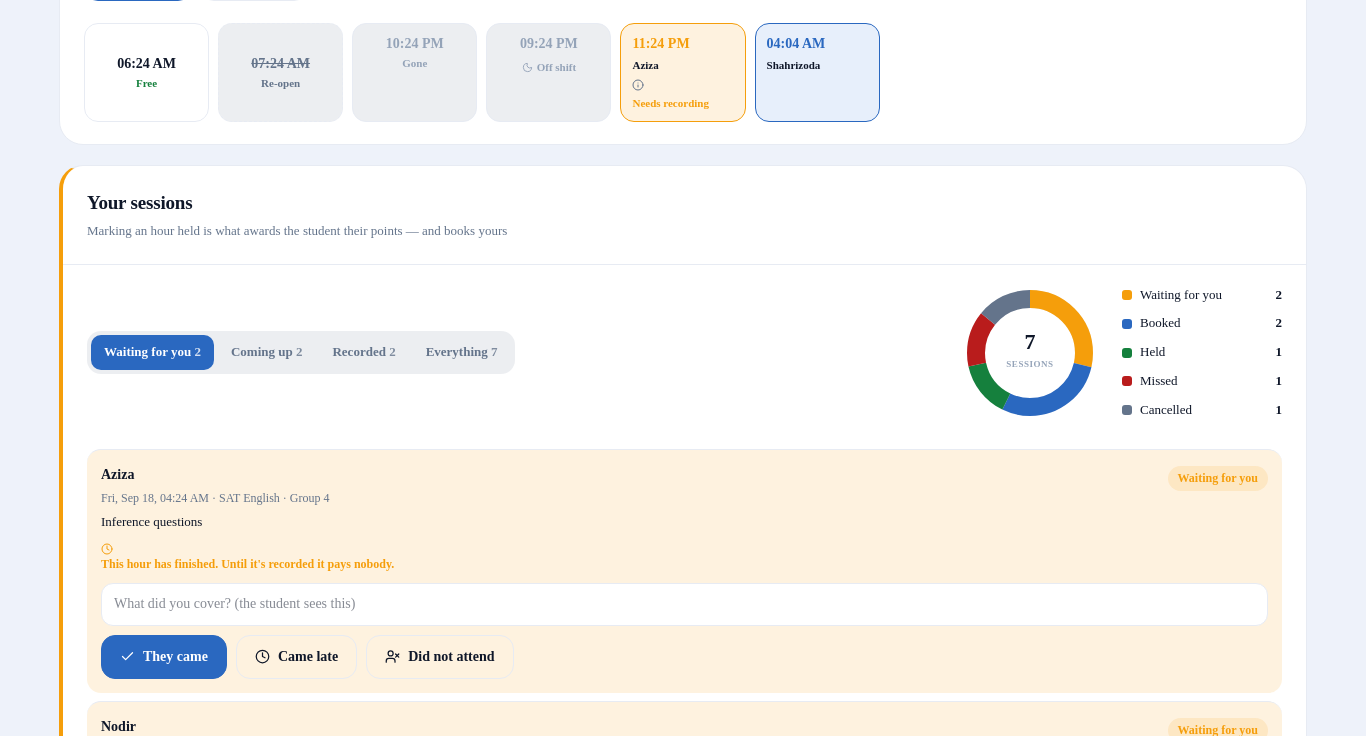
it: the hours nobody closed › leaves a session that is still in its own hour alone — it is being taught
The width and height of the screenshot is (1366, 736).
(page scrolled)
Click the button "Coming up 2" at {"x": 267, "y": 353}, box top-left (218, 335), bottom-right (315, 370)
(page scrolled)
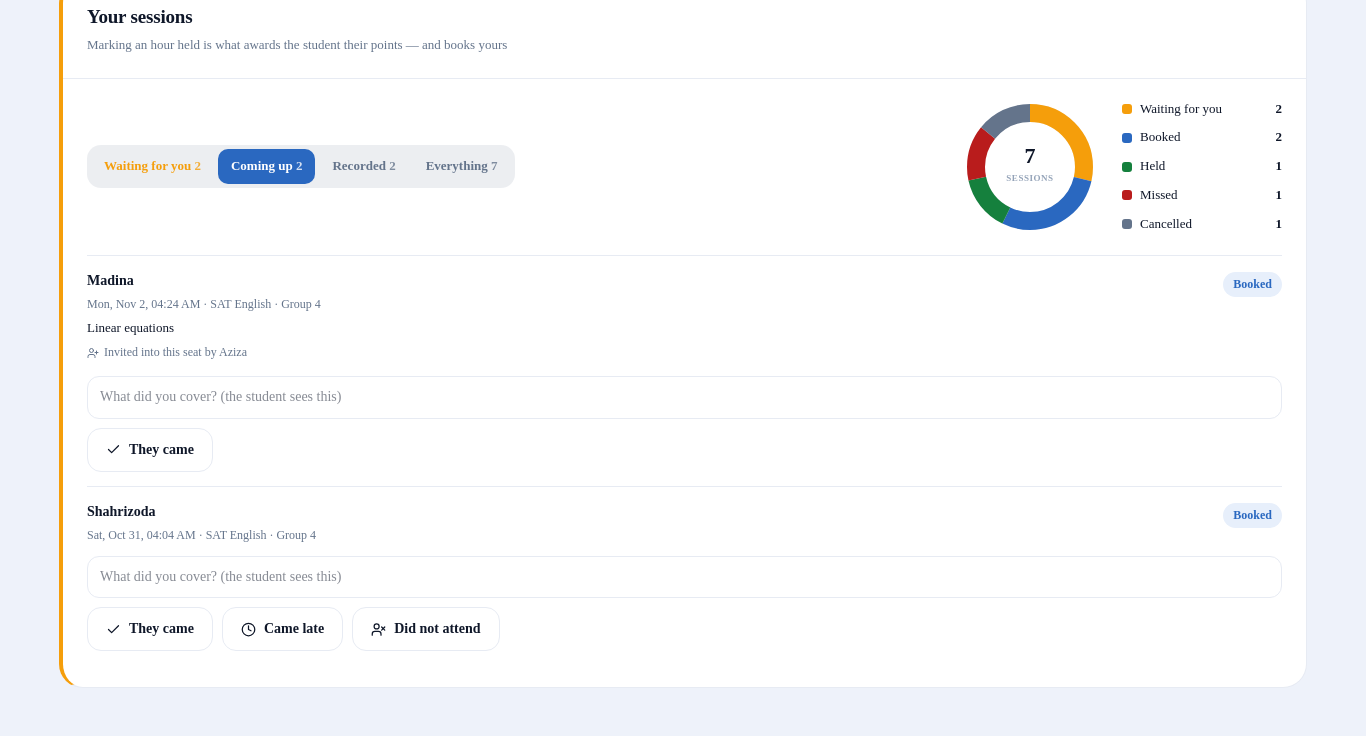
Check: the list item does not show "Waiting for you"
Check: the list item that starts with "Shahrizoda" shows "Booked", box top-left (1233, 508), bottom-right (1272, 522)
